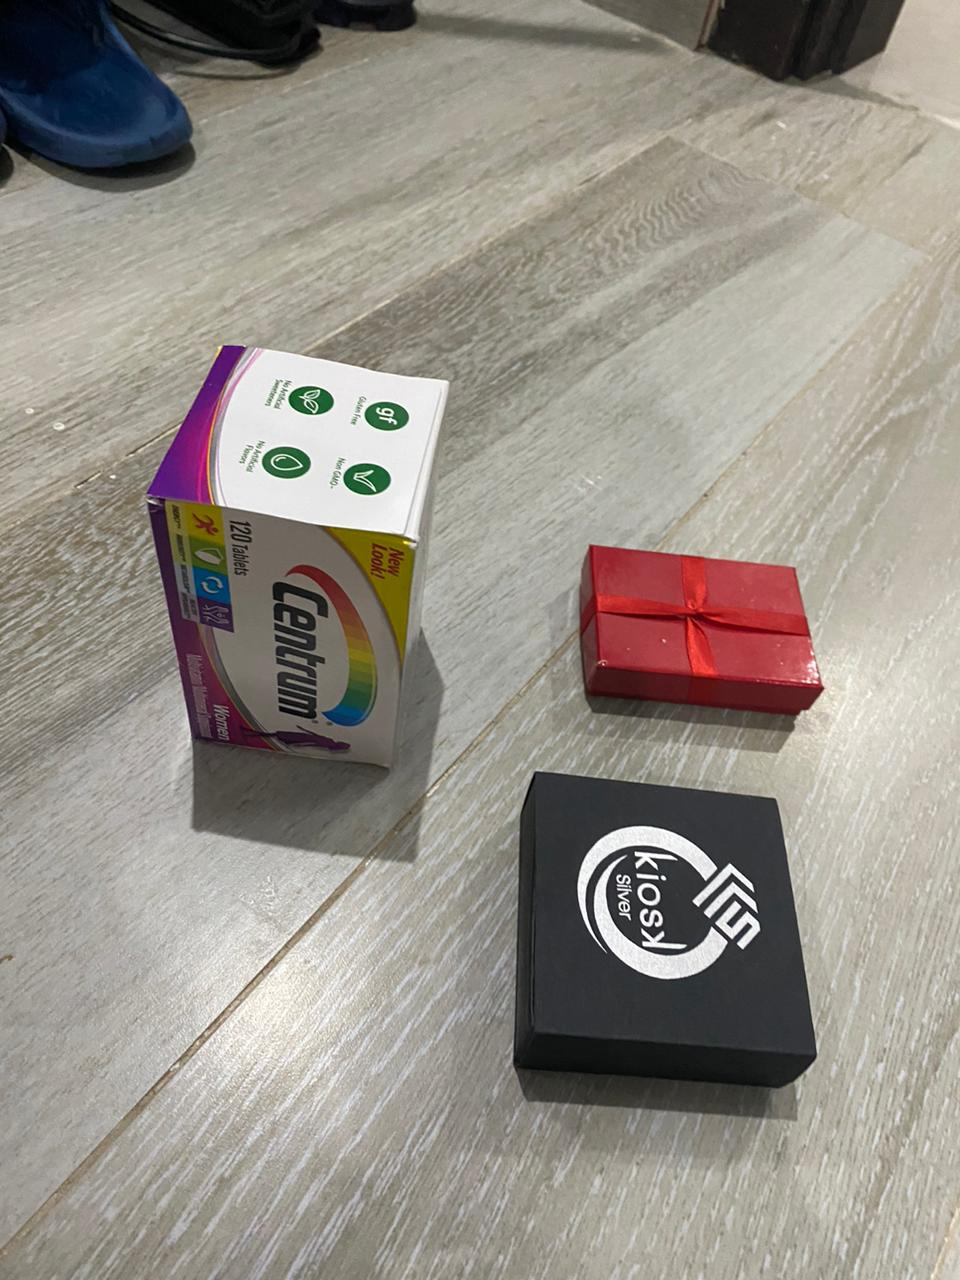Black Box: (576, 542, 830, 718)
Centrum: (141, 335, 454, 778)
Red Box: (512, 768, 820, 1090)
